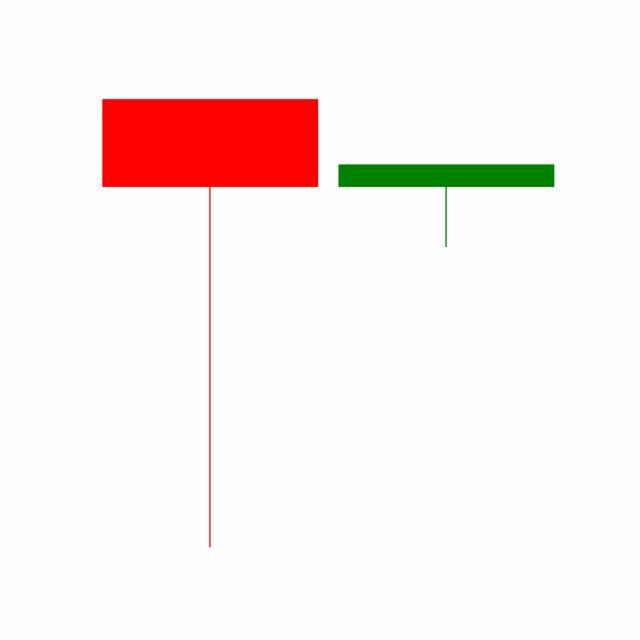Hanging Man: (328, 164, 566, 249)
